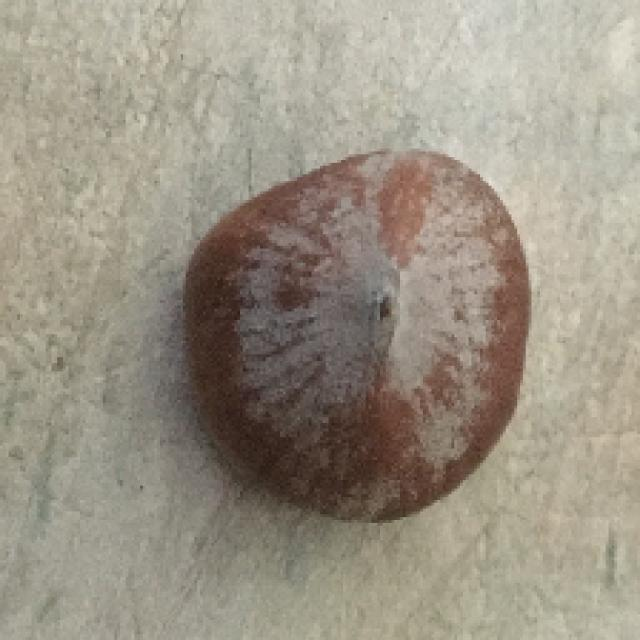qualityHazelnut: (172, 141, 534, 529)
